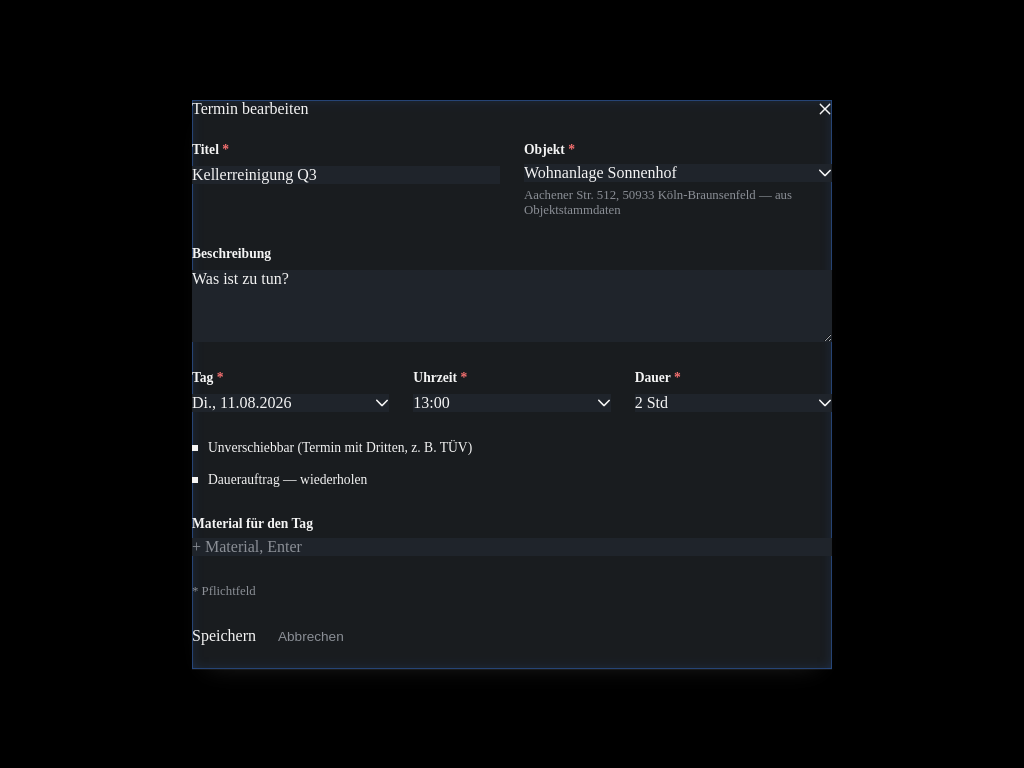
Test case: AppointmentFormDialog › shows an update-specific error and keeps the dialog open when updating fails
Click the button "Speichern".
click(224, 636)  # box [192, 626, 256, 644]
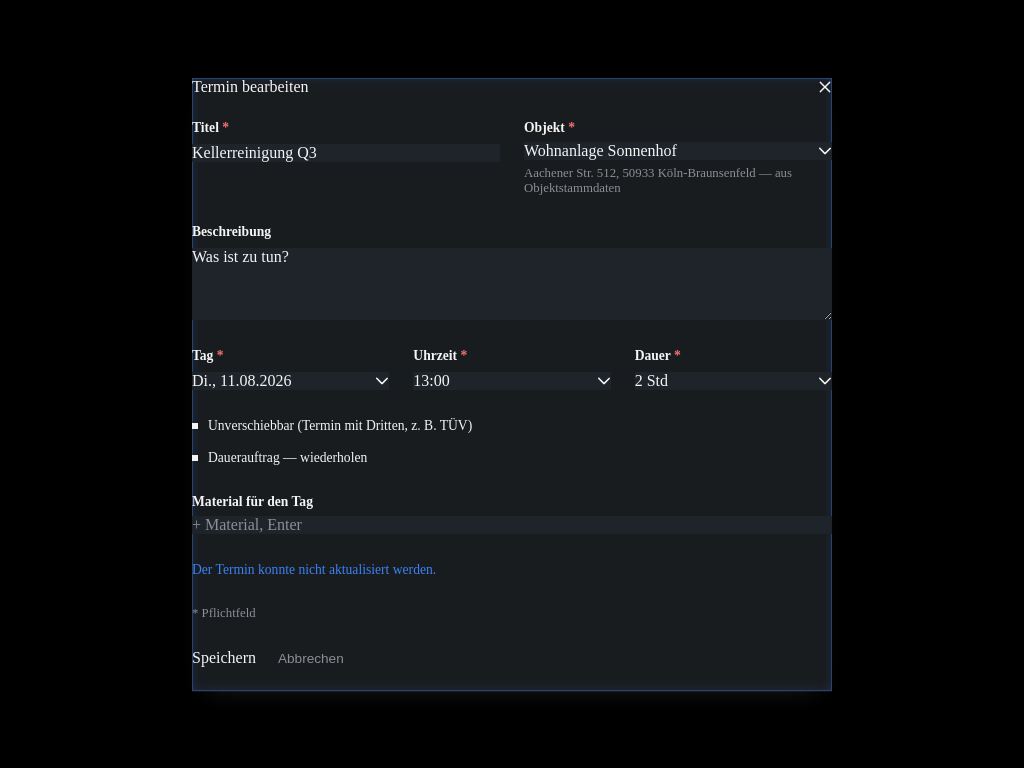
Expected: the text with class "appointment-form-dialog__error" reads "Der Termin konnte nicht aktualisiert werden.", [192, 562, 436, 576]
